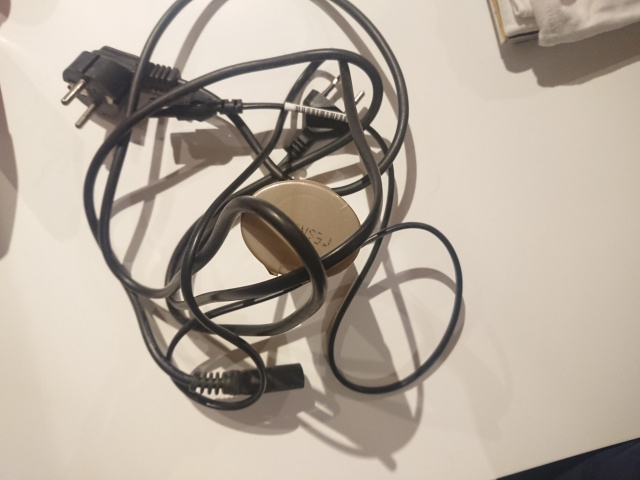Kotanyi Garlic Granules 70g: (237, 176, 364, 283)
